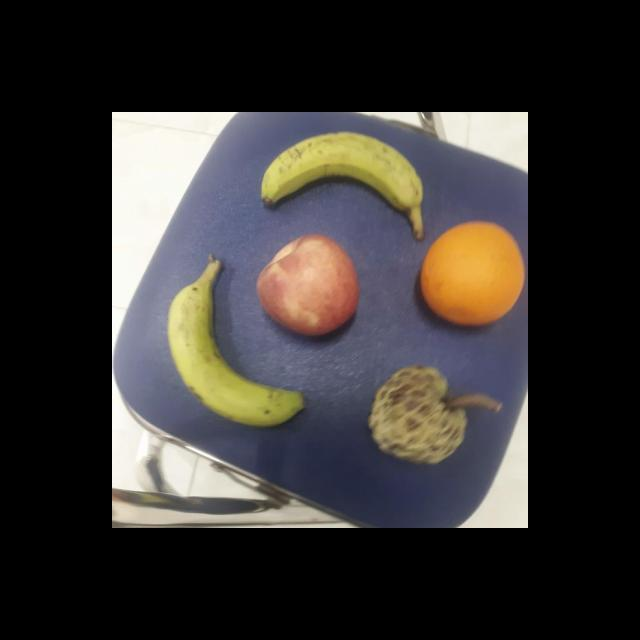Sakya fruit: (366, 363, 470, 467)
apple: (256, 230, 364, 336)
banana: (160, 258, 304, 428), (256, 130, 428, 227)
orange: (414, 220, 526, 329)
